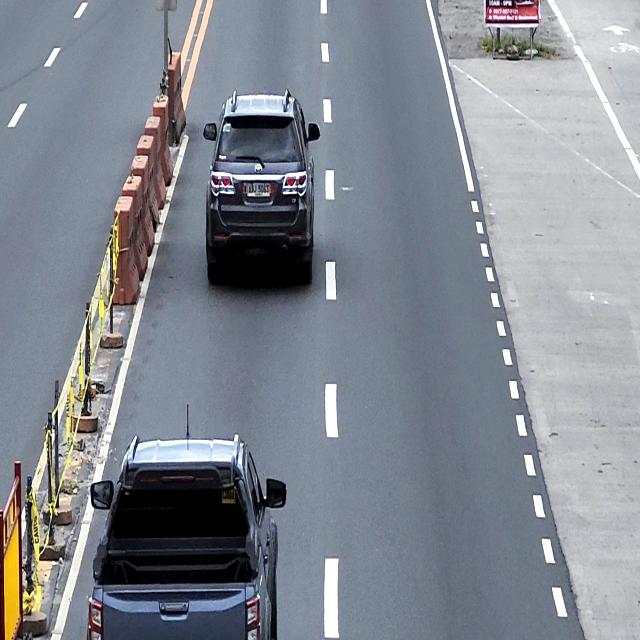Car: (87, 408, 287, 639), (203, 87, 320, 283)
License-Plate: (244, 180, 271, 198)
